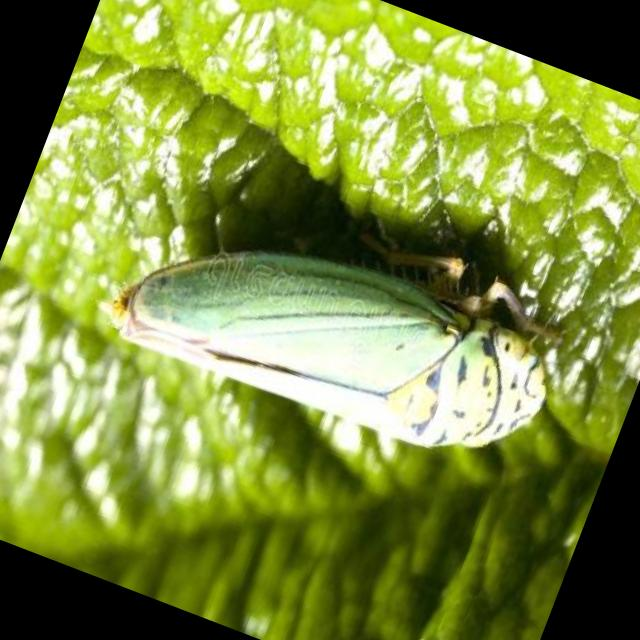green-leafhopper: (95, 180, 573, 499)
